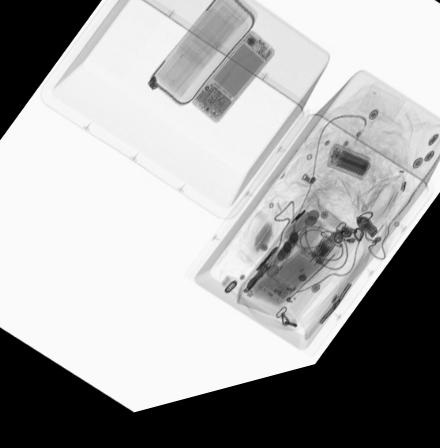Powerbank: (328, 161, 373, 200)
